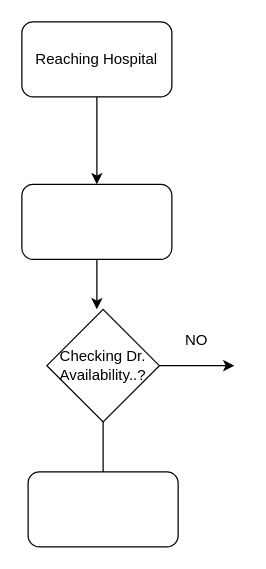
Some shapes in this 266 by 569 pixel diagram are drawn without their labels. The shapes that lost their labels are listed below. From the top down, each one's centre as x and y in pixels, then its label:
pixel 96 221: Reception
pixel 102 509: Book Appointment
